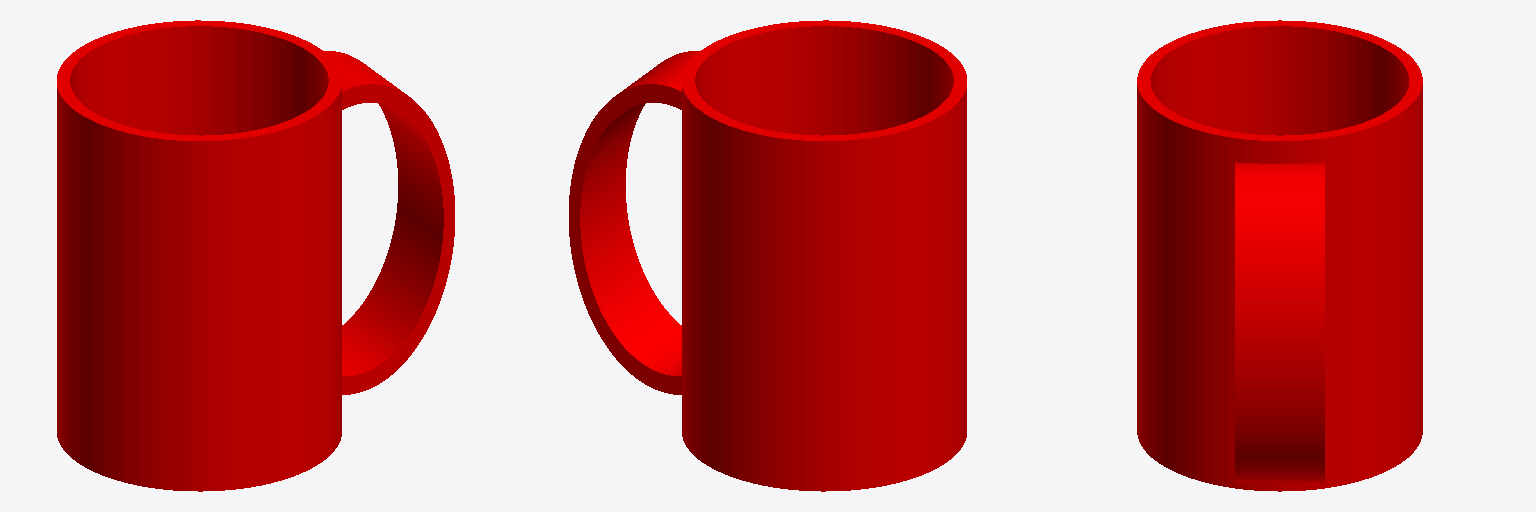
URDF robot description (mug.urdf):
<?xml version="1.0" ?>
<robot name="mug.urdf">
  <link name="baseLink">
    <inertial>
      <origin rpy="0 0 0" xyz="0 0 0"/>
       <mass value=".1"/>
       <inertia ixx="1" ixy="0" ixz="0" iyy="1" iyz="0" izz="1"/>
    </inertial>
    <contact>
      <lateral_friction value="1.0"/>
      <inertia_scaling value="3.0"/>
    </contact>
    <visual>
      <origin rpy="0 0 0" xyz="0 0 0"/>
      <geometry>
        <mesh filename="2.stl" scale="1 1 1" />
      </geometry>
      <material name="red">
        <color rgba="1 0 0 1"/>
      </material>
    </visual>
    <collision>
      <origin rpy="0 0 0" xyz="0 0 0"/>
      <geometry>
        <mesh filename="2_convex.obj" scale="1 1 1" />
      </geometry>
    </collision>
  </link>
</robot>

--- What the picture shows (computed from the rendered views, not written in the file) ---
The picture shows the robot from 3 angles, left to right: view 1: azimuth 30°, elevation 25°; view 2: azimuth 150°, elevation 25°; view 3: azimuth 270°, elevation 25°; orthographic projection.
Robot: mug.urdf — 1 links, 0 joints (none); root link baseLink; default pose: every joint at zero.
Links seen in each view (by area): view 1: baseLink; view 2: baseLink; view 3: baseLink.
Link boxes in pixels (x1,y1,x2,y2): baseLink: (57, 20, 454, 491); baseLink: (569, 20, 966, 491); baseLink: (1137, 20, 1422, 491).
Bounding box of the posed robot: 0.1522 × 0.1055 × 0.1427 m (x, y, z).
Meshes: 1 distinct files referenced, 1 mesh visuals loaded (1 binary STL).